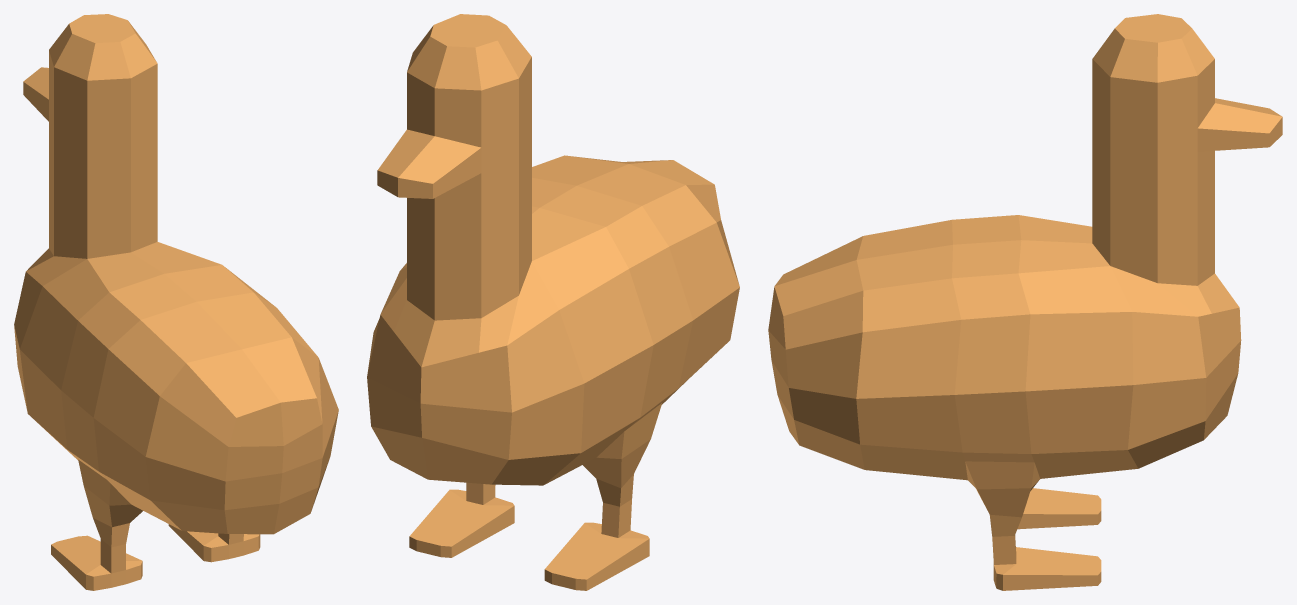
The model's file is Player.glb.
3 views of the same model, side by side, from view 1: azimuth 30°, elevation 25°; view 2: azimuth 150°, elevation 25°; view 3: azimuth 270°, elevation 25° (orthographic). The views are drawn at different scales.
Visible parts, largest first — view 1: DuckBody; view 2: DuckBody; view 3: DuckBody.
Boxes of the visible parts, x1=… form: DuckBody: x1=14, y1=14, x2=338, y2=590; DuckBody: x1=367, y1=14, x2=739, y2=590; DuckBody: x1=768, y1=14, x2=1282, y2=590.
Bounding box in the file's own units: 1.26 × 2.87 × 2.59.
Materials: 1 (1 with a texture image).
